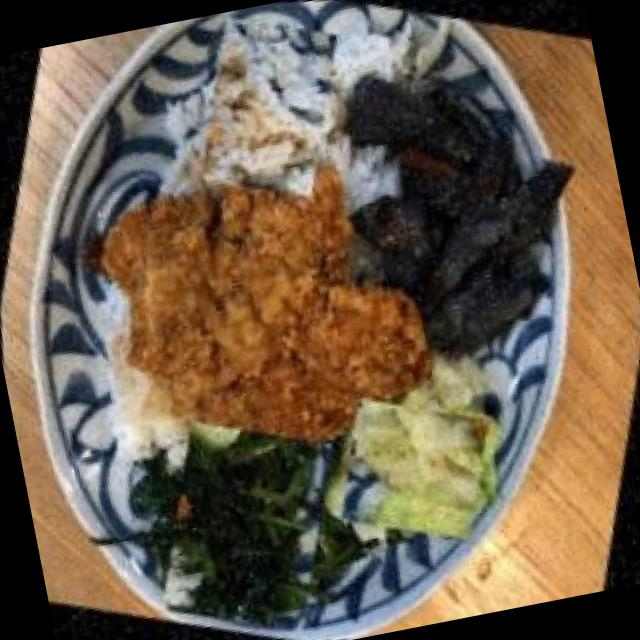chinese_cabbage: (313, 368, 512, 567)
fried_chicken: (21, 77, 510, 550)
rice: (159, 0, 376, 214)
water_spinach: (113, 397, 374, 640)
